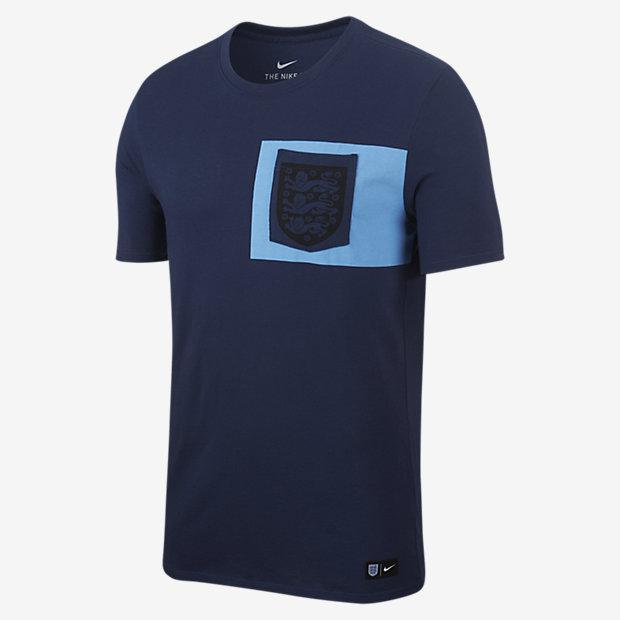teeshirt: (99, 13, 533, 613)
